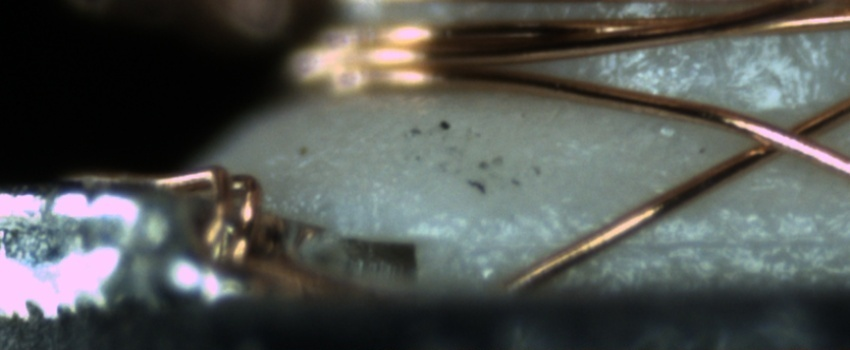CL: (729, 107, 835, 166)
DL: (526, 206, 849, 272)
TE: (86, 153, 277, 291)
